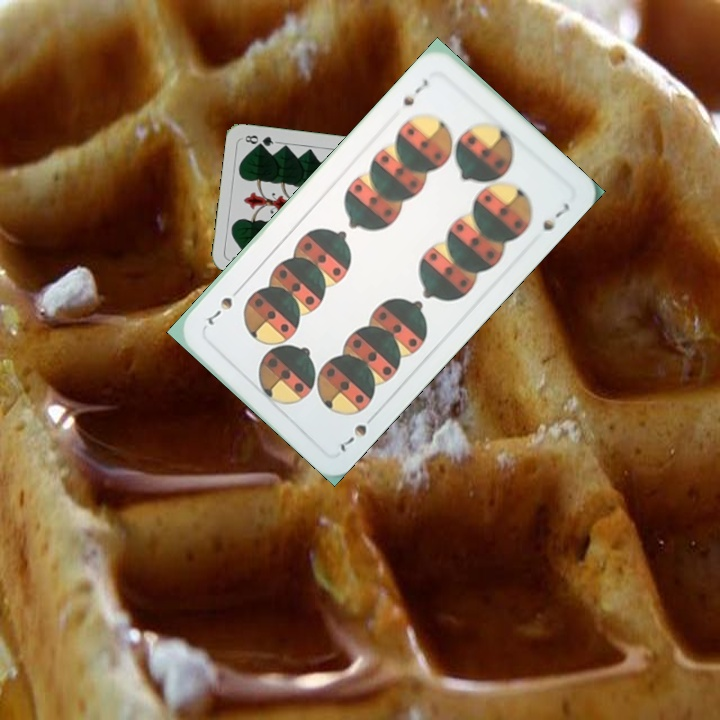S7: (334, 409, 380, 455), (398, 74, 431, 109)
